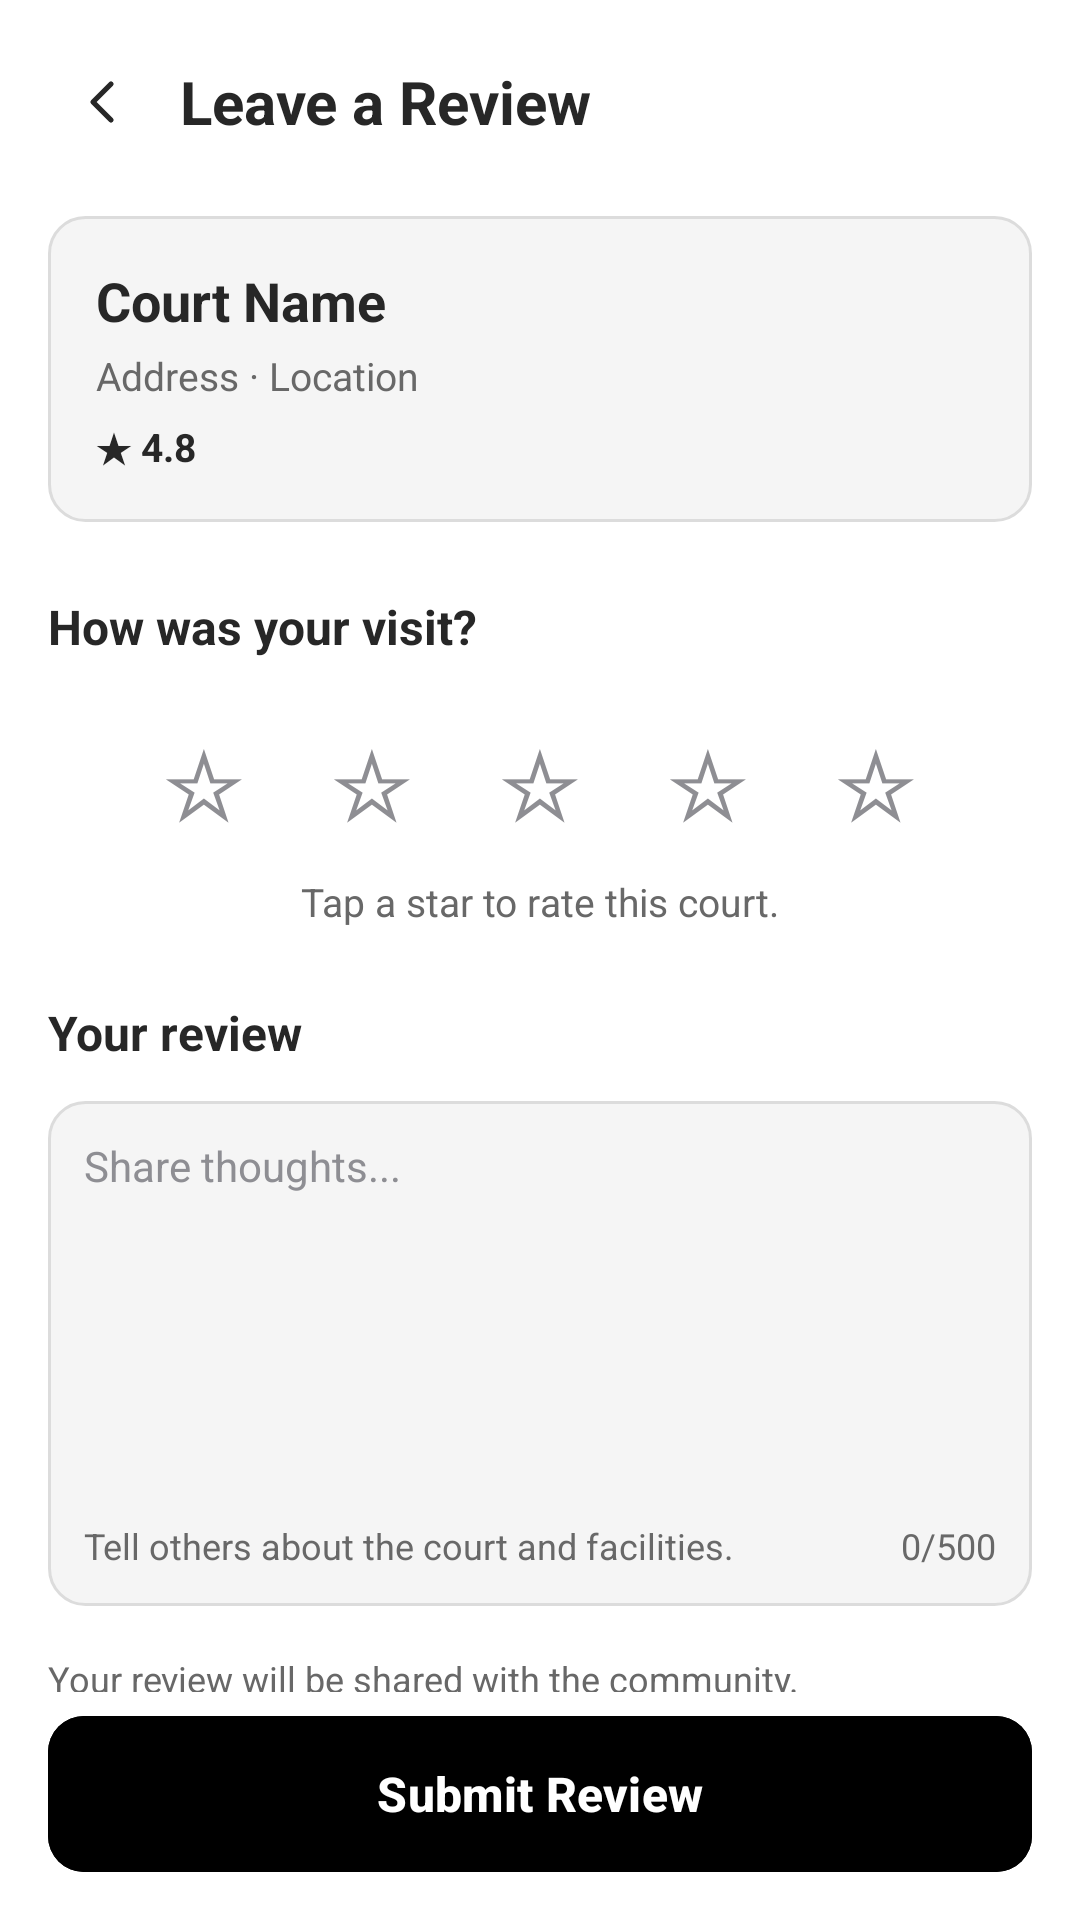

Point at icon controls on the screen. Image size 1080×1920, points as point (x, y).
Back: point (102, 102)
